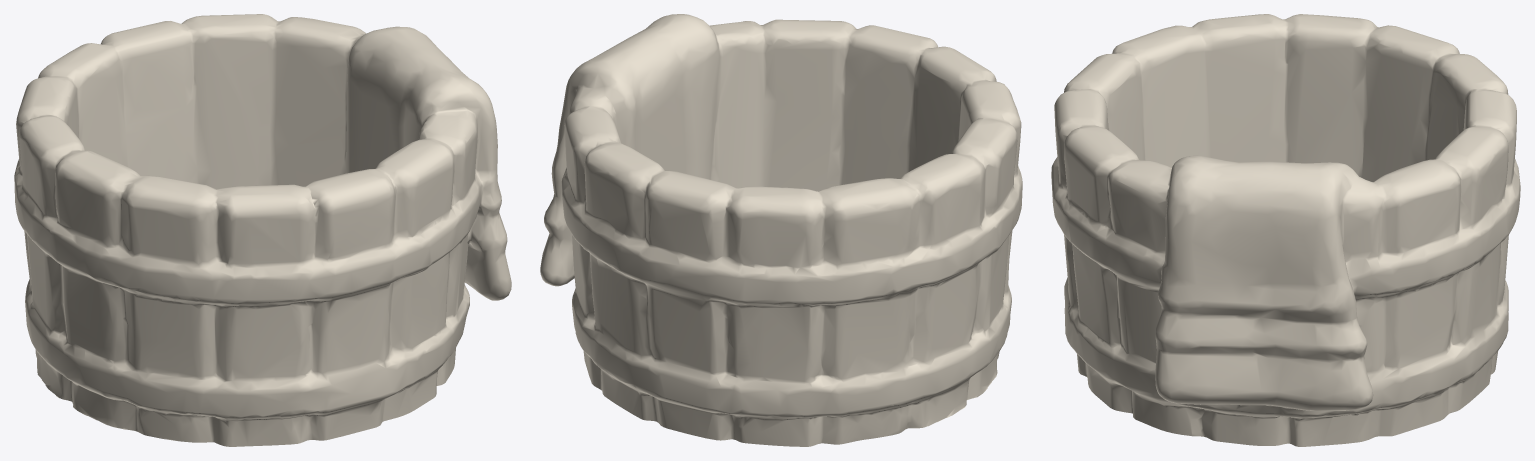
Rendered from spa_bucket.glb.
3 renders of one model, left to right at view 1: azimuth 30°, elevation 25°; view 2: azimuth 150°, elevation 25°; view 3: azimuth 270°, elevation 25°, orthographic.
Bounding box in the file's own units: 0.1457 × 0.0908 × 0.14.
